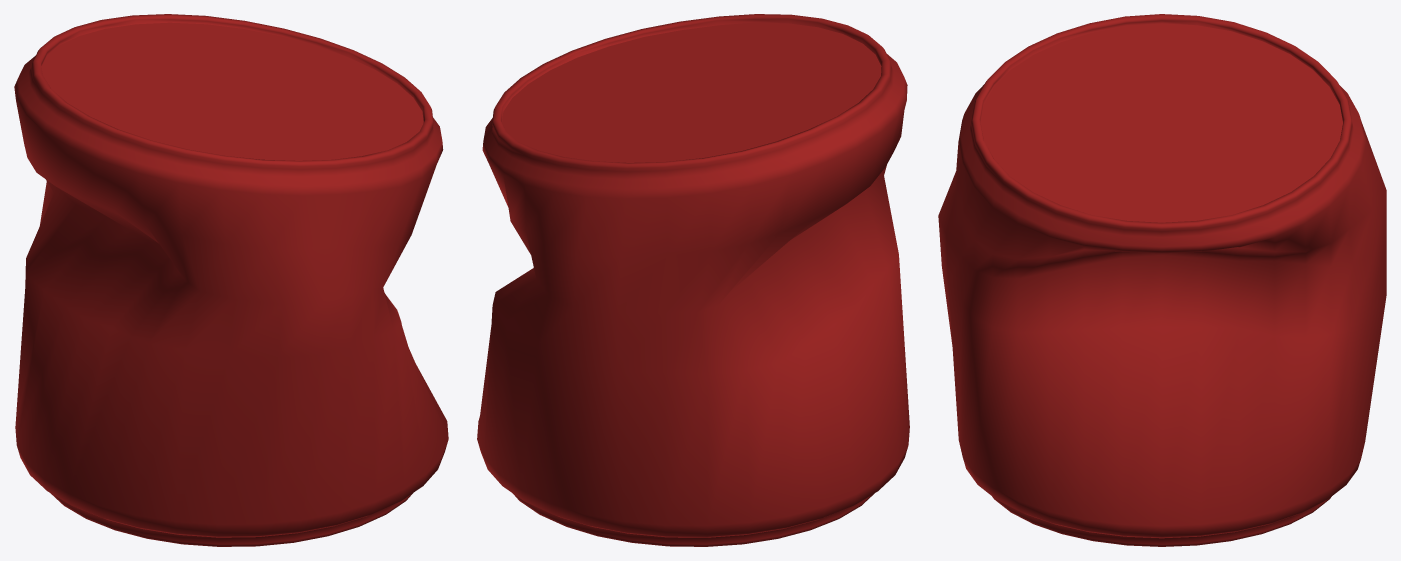
File: Can_Crush2.fbx
3 views of the same model, side by side, from view 1: azimuth 30°, elevation 25°; view 2: azimuth 150°, elevation 25°; view 3: azimuth 270°, elevation 25° (orthographic). The views are drawn at different scales.
Visible parts, largest first — view 1: Can_Crush2; view 2: Can_Crush2; view 3: Can_Crush2.
Boxes of the visible parts, <box> form: Can_Crush2: <box>14,14,448,546</box>; Can_Crush2: <box>477,14,909,546</box>; Can_Crush2: <box>938,14,1386,546</box>.
Size of the model in its own units: 20.14 by 20.73 by 22.21.
